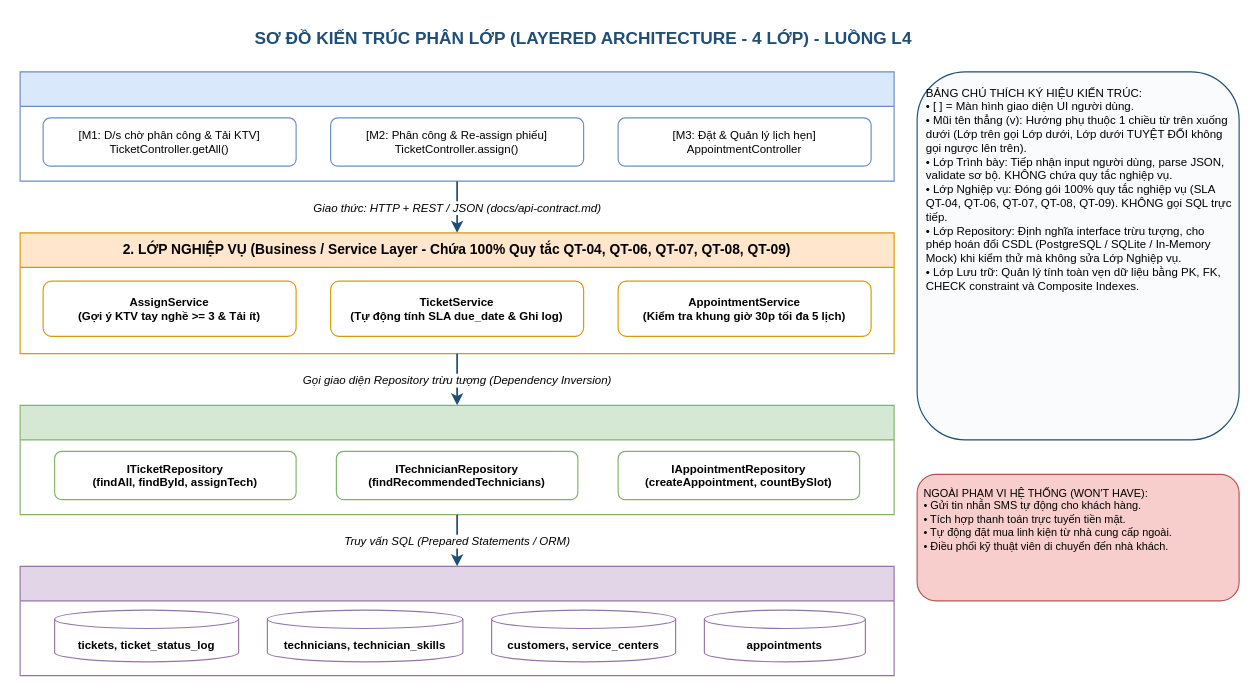
This 1259x696 diagram has some shape labels left out. The shapes that lost their labels are listed below. From the top down, each one's box as (x1, y1, x2, y2) in pixels, then its label:
(19, 71, 894, 181): 1. LỚP TRÌNH BÀY (Presentation Layer - Controllers & Views)
(19, 404, 894, 515): 3. LỚP TRUY CẬP DỮ LIỆU (Repository / DAO Layer - Che giấu chi tiết SQL)
(19, 565, 894, 676): 4. LỚP LƯU TRỮ (Data Store Layer - PostgreSQL / SQLite Database)
